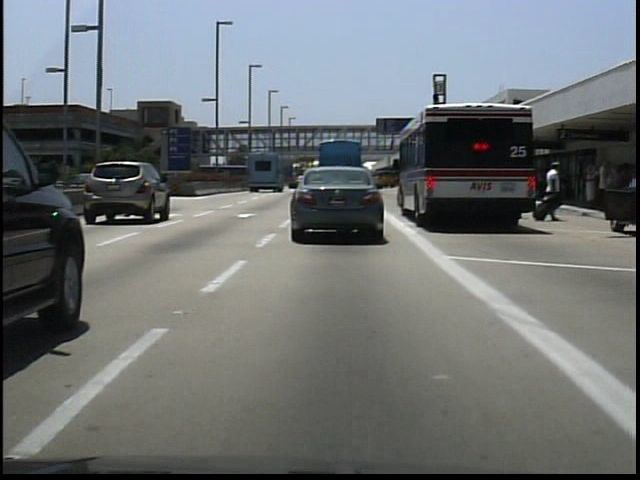person: (540, 159, 563, 224)
